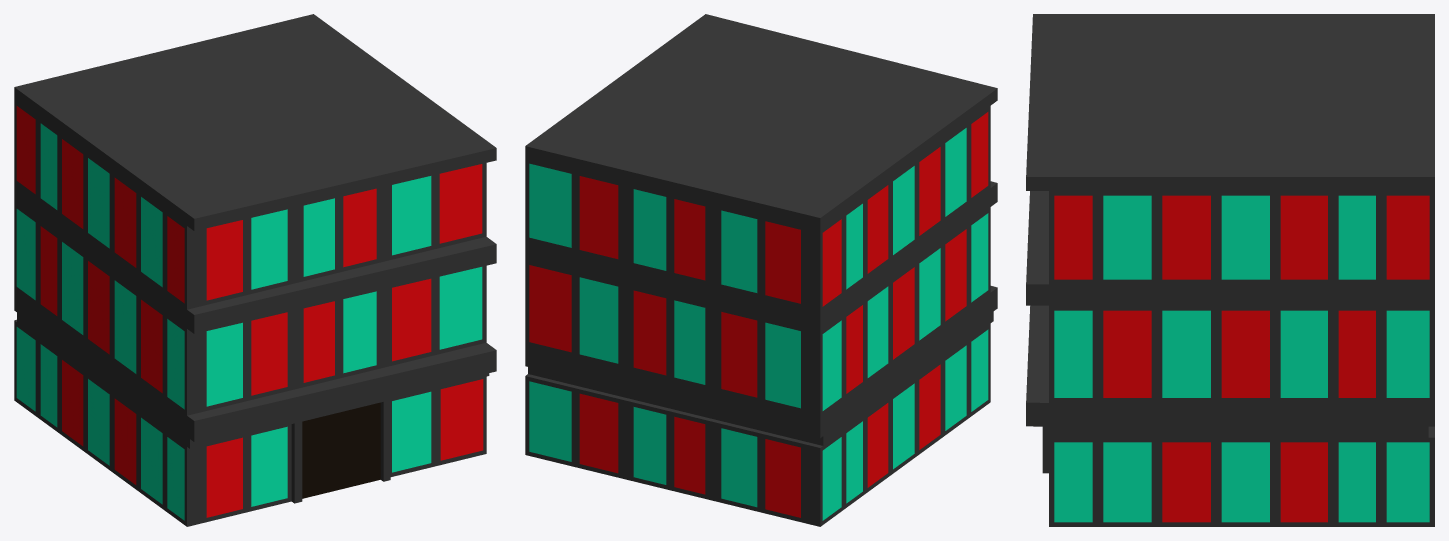
Rendered from MOD_BatD.FBX.
3 renders of one model, left to right at view 1: azimuth 30°, elevation 25°; view 2: azimuth 150°, elevation 25°; view 3: azimuth 270°, elevation 25°, orthographic. The views are drawn at different scales.
Parts seen in each view (by area): view 1: Object003; view 2: Object003; view 3: Object003.
Part boxes in pixels (box(x1,y1,x2,y2)): Object003: box(14, 14, 496, 526); Object003: box(525, 14, 997, 526); Object003: box(1026, 14, 1434, 526).
Bounding box in the file's own units: 30 × 30 × 31.77.
